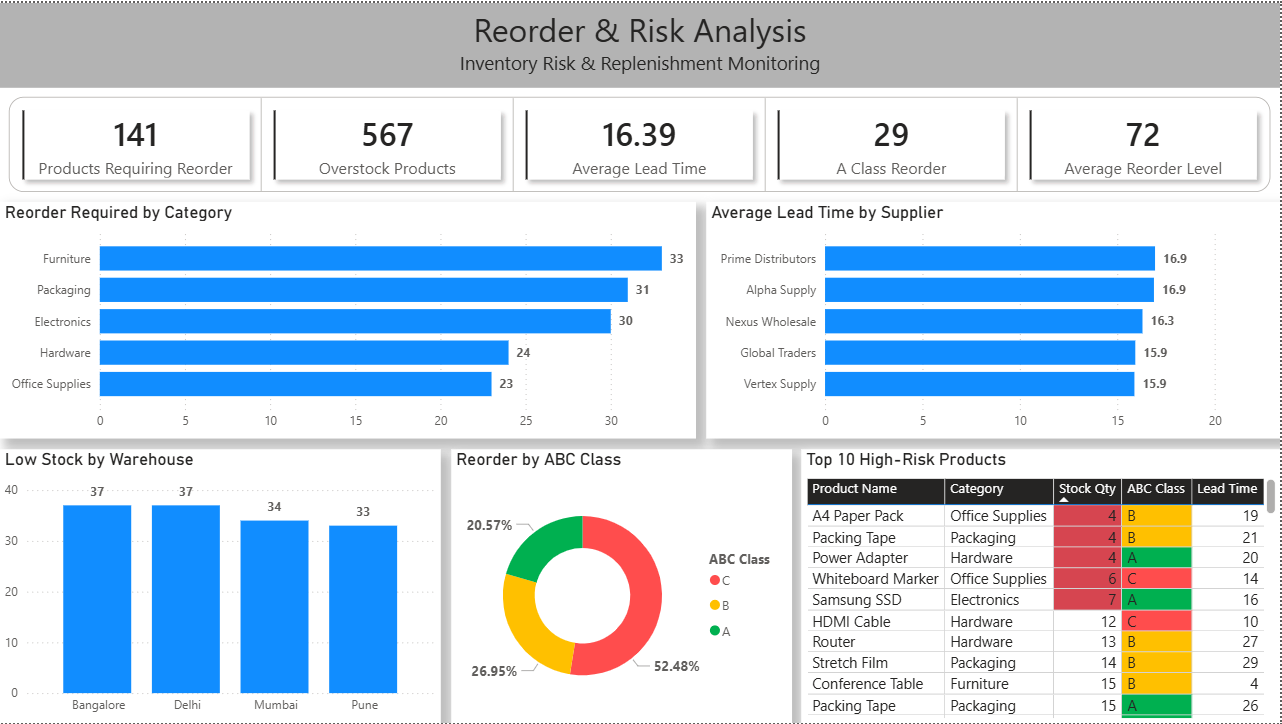

Layout of this report page (visuals, bound fields, positions):
{"tool":"powerbi","page":{"name":"Reorder & Risk Analysis","canvas":[1280,720],"ordinal":1},"visuals":[{"type":"textbox","box":[0,0,1280,85],"z":0},{"type":"cardVisual","fields":{"Data":["Measure.Products Requiring Reorder","Measure.Overstock Products","Measure.Average Lead Time","Measure.A Class Reorder","Measure.Average Reorder Level"]},"box":[0,85.2,1280.2,113.6],"z":1000},{"type":"clusteredBarChart","title":"Reorder Required by Category","fields":{"Category":["Inventory_Data.Category"],"Y":["Measure.Products Requiring Reorder"]},"box":[0,198.8,696.3,237],"z":2000},{"type":"clusteredColumnChart","title":"Low Stock by Warehouse","fields":{"Category":["Inventory_Data.Warehouse"],"Y":["Measure.Low Stock Products"]},"box":[0,445.7,440.7,274.1],"z":3000},{"type":"clusteredBarChart","fields":{"Category":["Inventory_Data.Supplier"],"Y":["Measure.Average Lead Time"]},"box":[706.2,198.8,574.1,237],"z":4000},{"type":"donutChart","title":"Reorder by ABC Class","fields":{"Category":["Inventory_Data.ABC Class"],"Y":["Measure.Products Requiring Reorder"]},"box":[451.9,445.7,340.7,274.1],"z":5000},{"type":"tableEx","title":"Top 10 High-Risk Products","fields":{"Values":["Inventory_Data.Product Name","Inventory_Data.Category","Sum(Inventory_Data.Stock Quantity)","Inventory_Data.ABC Class","Sum(Inventory_Data.Lead Time Days)"]},"box":[801.2,445.7,479,274.1],"z":6000}]}

Visuals, with their boxes in screenshot pixels (x1, y1, x2, y2), scaled from the page's 1280x720 canvas onto the 1282x724 screenshot:
textbox: pyautogui.locateOnScreen(0, 0, 1281, 85)
cardVisual - Measure.Products Requiring Reorder x Measure.Overstock Products: pyautogui.locateOnScreen(0, 86, 1281, 200)
"Reorder Required by Category" clusteredBarChart: pyautogui.locateOnScreen(0, 200, 697, 438)
"Low Stock by Warehouse" clusteredColumnChart: pyautogui.locateOnScreen(0, 448, 441, 723)
clusteredBarChart - Inventory_Data.Supplier x Measure.Average Lead Time: pyautogui.locateOnScreen(707, 200, 1281, 438)
"Reorder by ABC Class" donutChart: pyautogui.locateOnScreen(453, 448, 794, 723)
"Top 10 High-Risk Products" tableEx: pyautogui.locateOnScreen(802, 448, 1281, 723)
